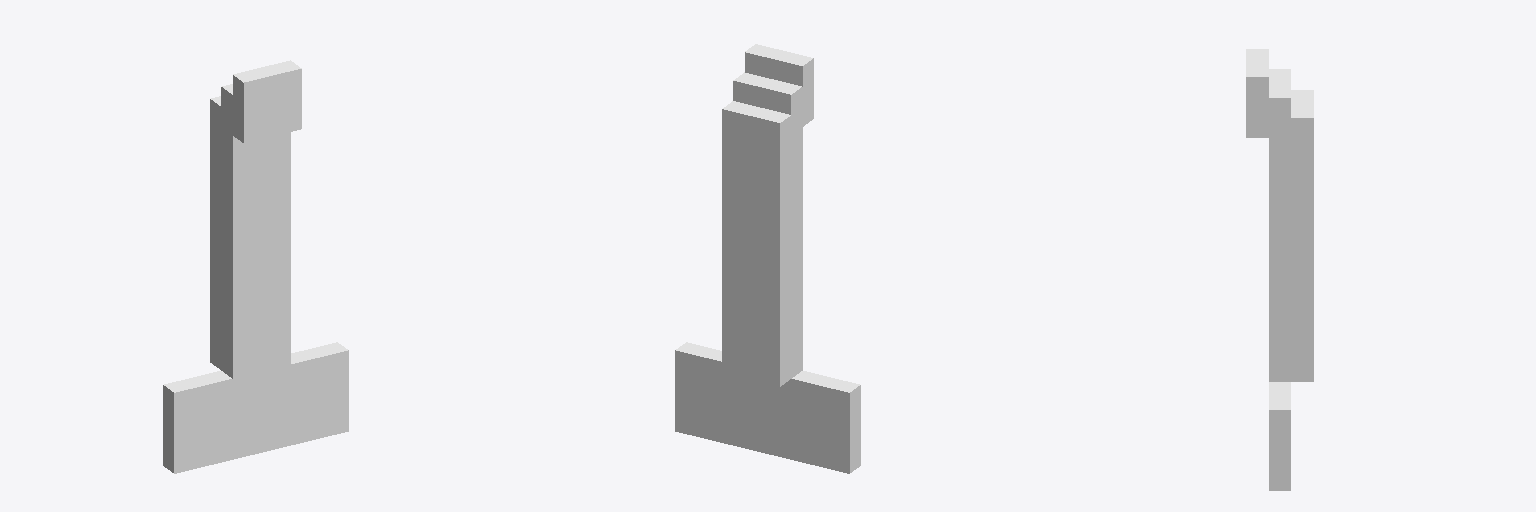
The model's file is guy_hand_right.obj.
3 renders of one model, left to right at view 1: azimuth 30°, elevation 25°; view 2: azimuth 150°, elevation 25°; view 3: azimuth 270°, elevation 25°, orthographic.
Visible parts, largest first — view 1: object 1; view 2: object 1; view 3: object 1.
Boxes of the visible parts, x1,y1,x2,y2 form: object 1: [163, 60, 348, 473]; object 1: [675, 44, 860, 473]; object 1: [1246, 49, 1313, 490].
Bounding box in the file's own units: 0.9 × 1.9 × 0.3.